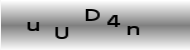4: (106, 13, 122, 28)
D: (84, 8, 101, 23)
U: (53, 26, 70, 40)
n: (126, 24, 141, 36)
u: (27, 20, 40, 32)
